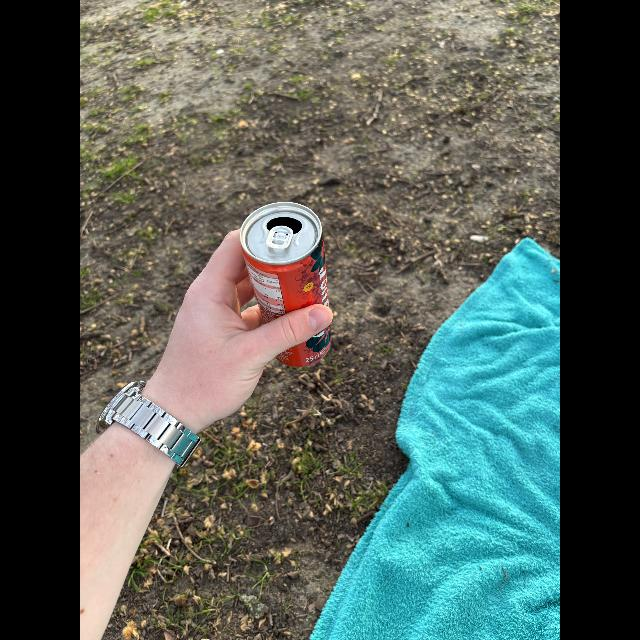Metal: (238, 196, 338, 376)
